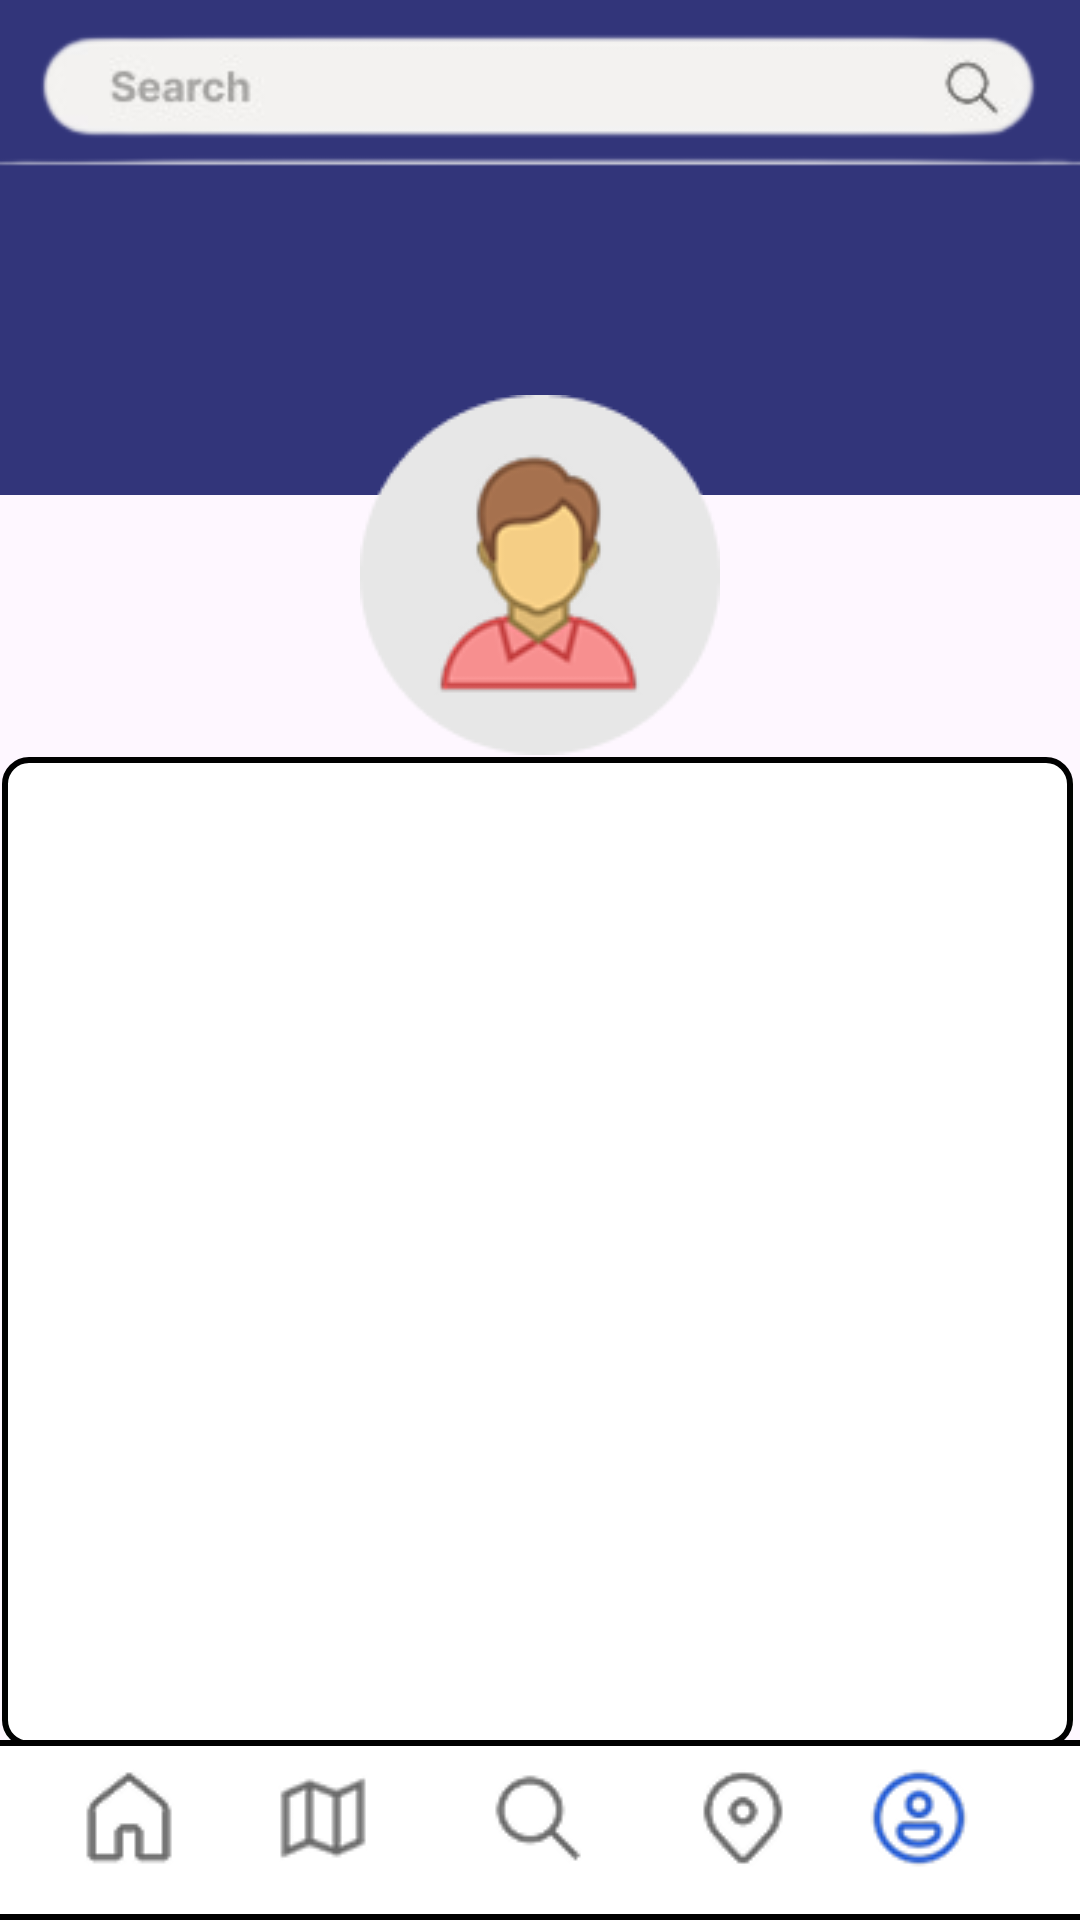

Point at icon controls on the screen. Image size 1080×1920, points as point (x, y).
home: point (129, 1817)
location: point (743, 1818)
paper map: point (323, 1818)
profile: point (919, 1818)
profilepicture: point (540, 575)
search: point (538, 1818)
